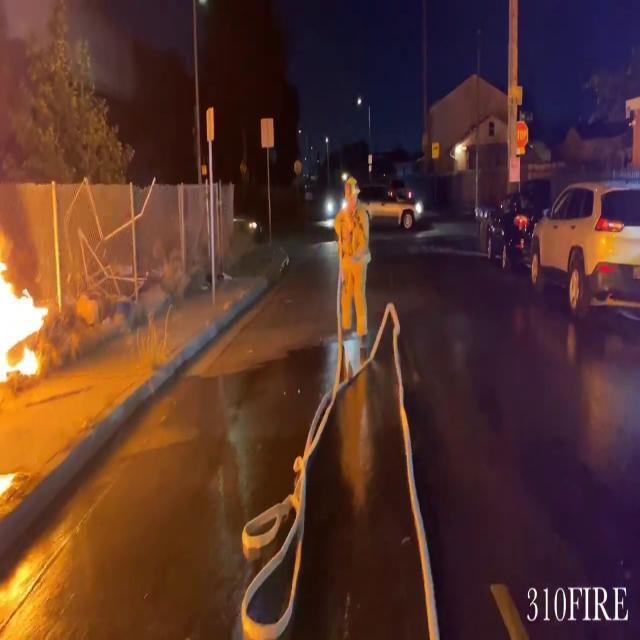Fire: (0, 197, 55, 415)
